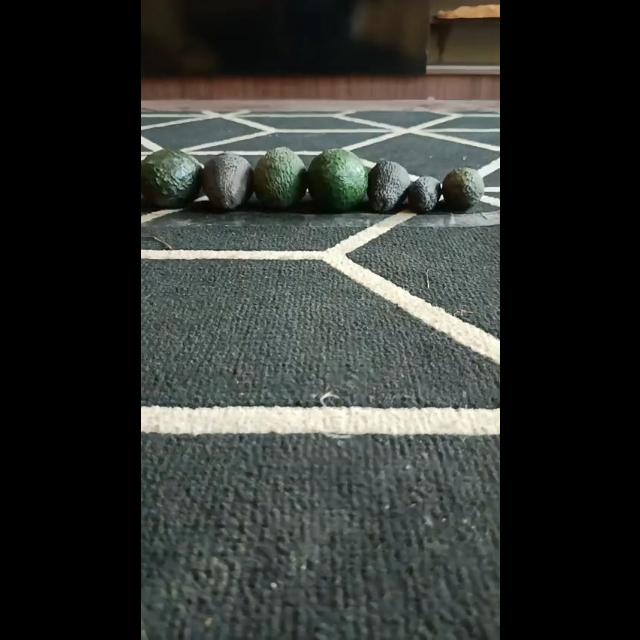Primera: (306, 148, 366, 212), (141, 149, 203, 209), (251, 147, 305, 210), (200, 152, 252, 210)
Segunda: (366, 160, 412, 212), (440, 167, 484, 213)
Tercera: (406, 174, 442, 213)
